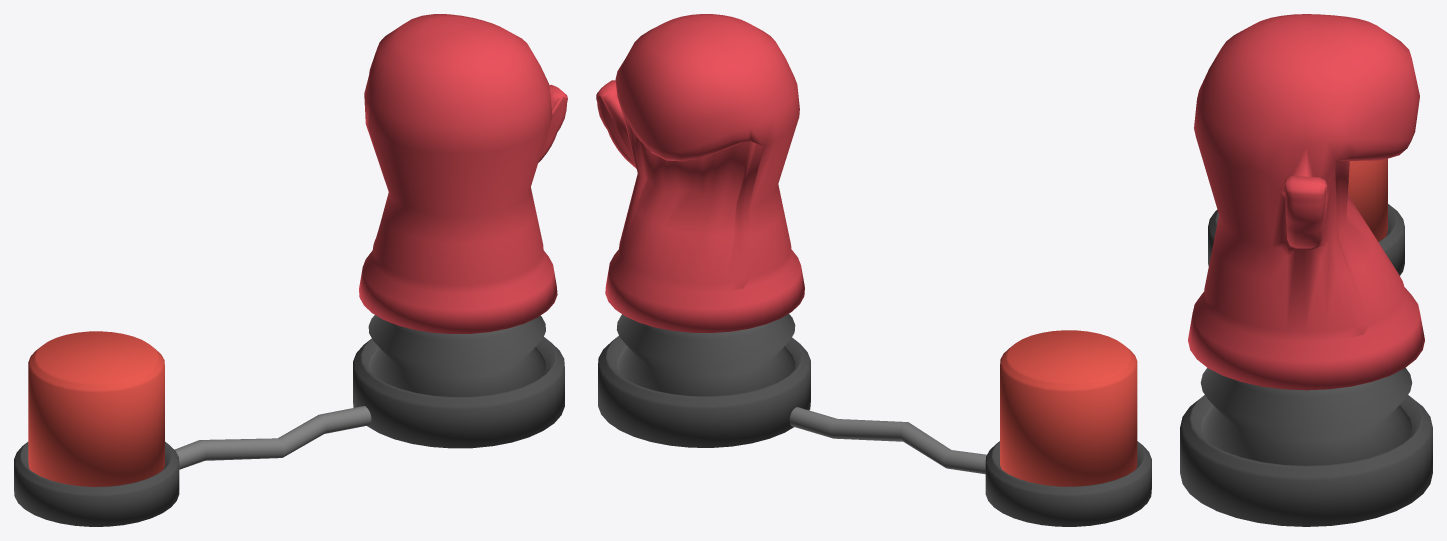
File: Resorte_prueba.fbx
3 renders of one model, left to right at view 1: azimuth 30°, elevation 25°; view 2: azimuth 150°, elevation 25°; view 3: azimuth 270°, elevation 25°, orthographic. The views are drawn at different scales.
Parts seen in each view (by area): view 1: Guantedebox, Resorte_interruptor, Resorte_base, Resorte, Interruptor_base.001, Cable_resorte_guante; view 2: Guantedebox, Resorte_interruptor, Resorte_base, Resorte, Interruptor_base.001, Cable_resorte_guante; view 3: Guantedebox, Resorte_base, Resorte, Resorte_interruptor, Interruptor_base.001.
Part boxes in pixels (x1,y1,x2,y2): Guantedebox: (359, 14, 567, 333); Resorte_interruptor: (28, 331, 164, 486); Resorte_base: (353, 337, 564, 448); Resorte: (368, 315, 545, 396); Interruptor_base.001: (14, 441, 179, 526); Cable_resorte_guante: (175, 406, 371, 469); Guantedebox: (596, 14, 804, 332); Resorte_interruptor: (1000, 330, 1137, 486); Resorte_base: (598, 336, 810, 447); Resorte: (616, 314, 795, 396); Interruptor_base.001: (985, 441, 1151, 526); Cable_resorte_guante: (789, 407, 986, 474); Guantedebox: (1188, 14, 1424, 390); Resorte_base: (1180, 395, 1432, 526); Resorte: (1200, 368, 1412, 465); Resorte_interruptor: (1348, 158, 1387, 241); Interruptor_base.001: (1208, 204, 1404, 275).
Bounding box in the file's own units: 1491 × 990 × 510.
